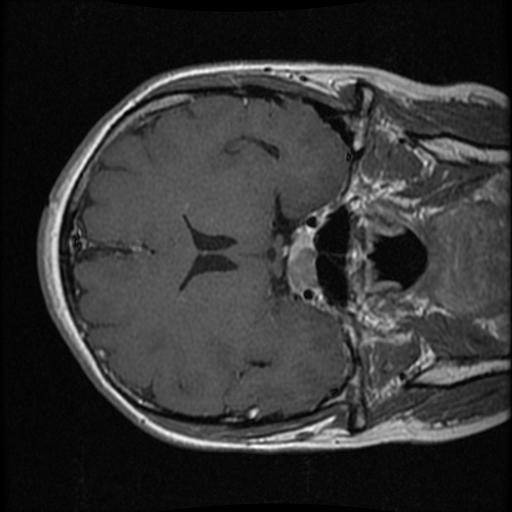pituitary tumour: (287, 227, 319, 292)
